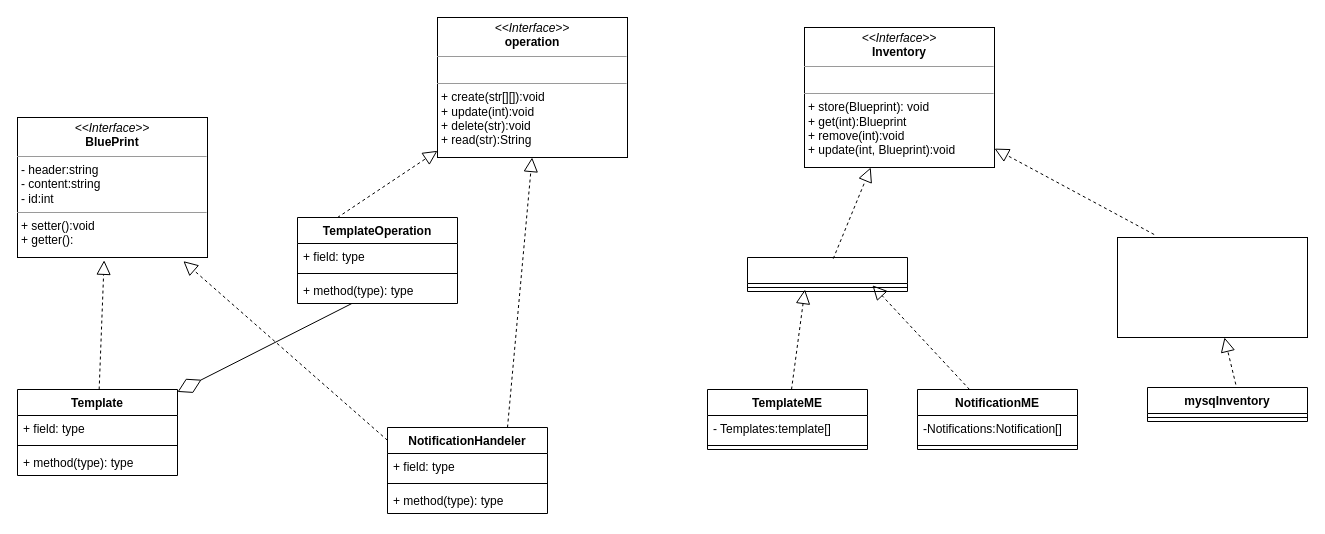
This 1325x534 diagram has some shape labels left out. The centre of each missing label's shape, as x and y in pixels:
<<Interface>> databaseInventory + connectToDataBase():obj: (x=1212, y=287)
memoryInventory: (x=827, y=274)
